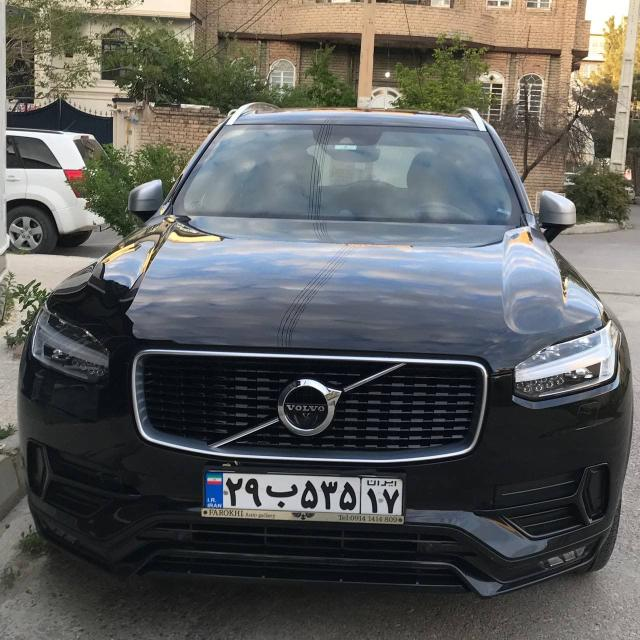Plates: (203, 472, 403, 516)
